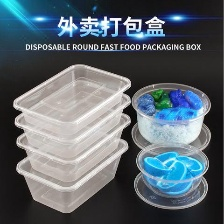plastic_box: (8, 59, 136, 218), (126, 77, 214, 158), (127, 138, 213, 213)
